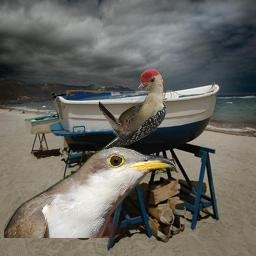Cuckoo: (4, 146, 176, 238)
Woodpecker: (99, 69, 166, 158)
